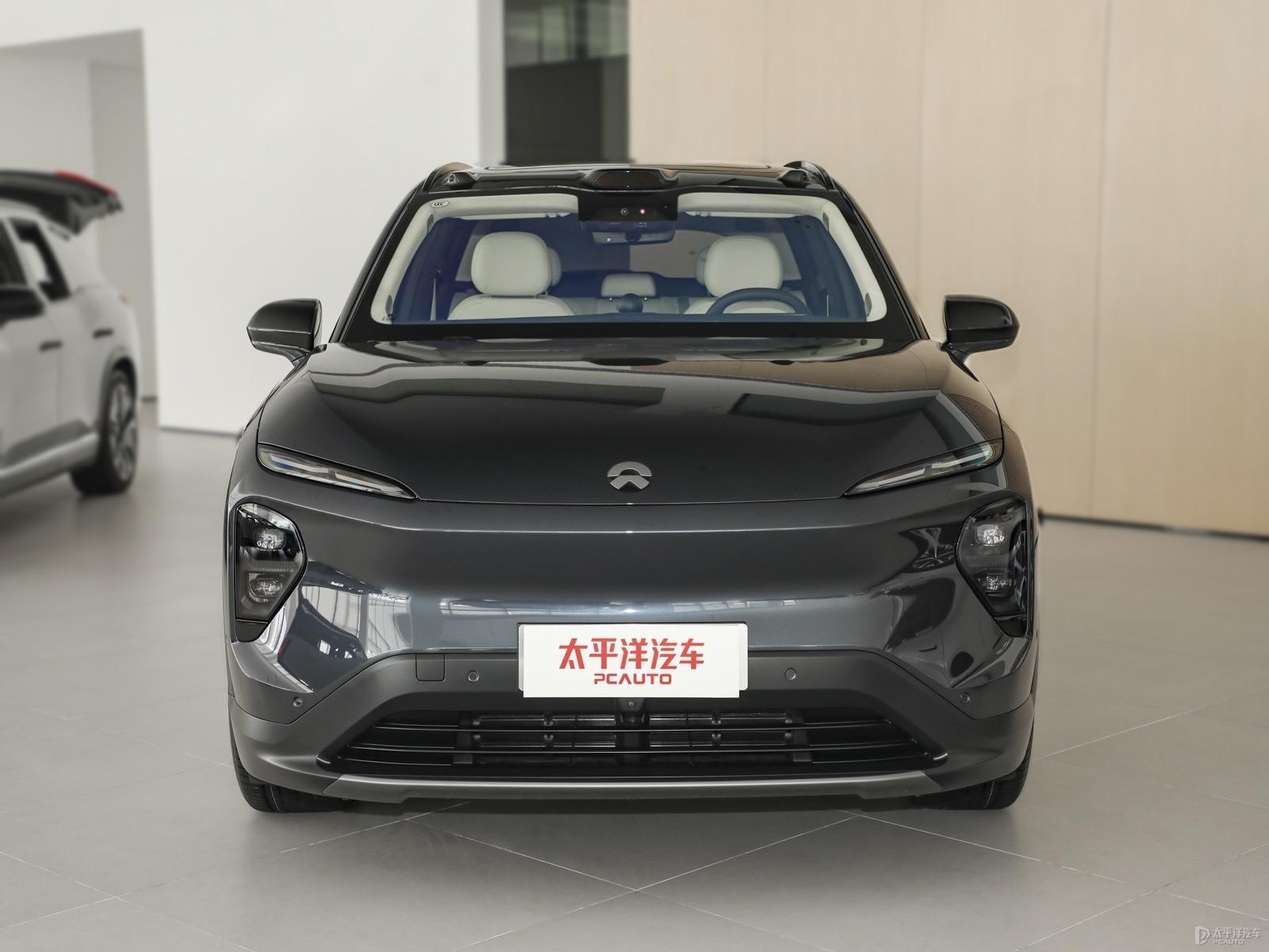NIO: (608, 462, 652, 489)
